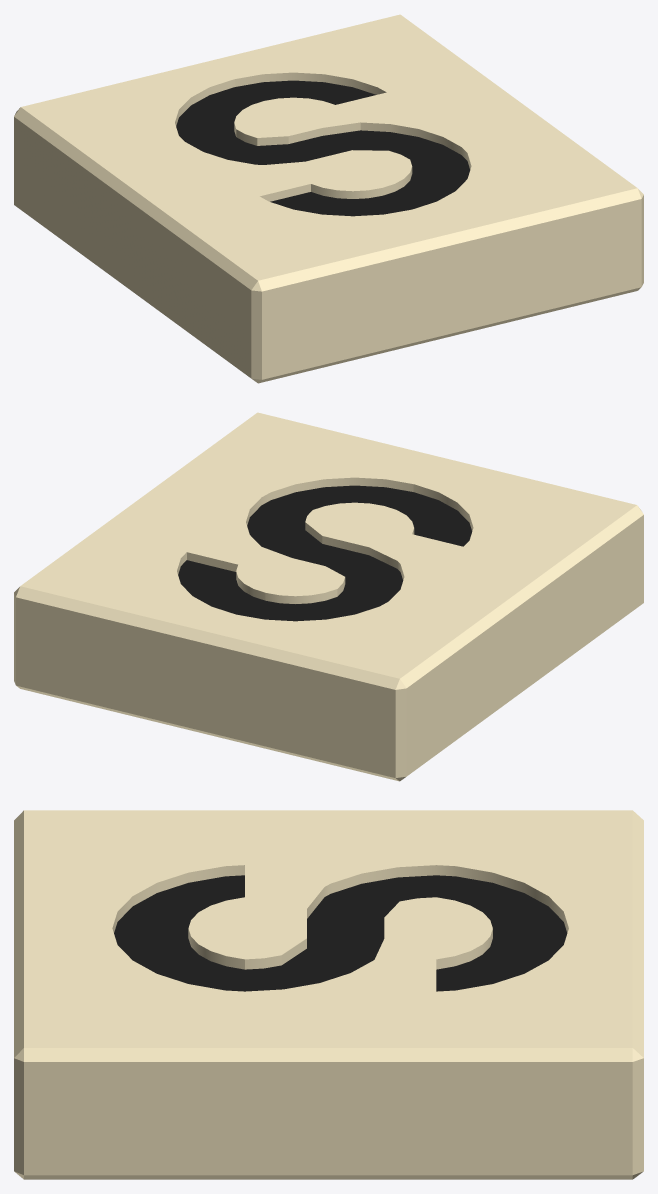
Rendered from Game_Anagram_Tile_S_01.fbx.
3 views of the same model, one above another, from view 1: azimuth 30°, elevation 25°; view 2: azimuth 150°, elevation 25°; view 3: azimuth 270°, elevation 25° (orthographic). The views are drawn at different scales.
Visible parts, largest first — view 1: Game_Anagram_Tile_S_01; view 2: Game_Anagram_Tile_S_01; view 3: Game_Anagram_Tile_S_01.
Boxes of the visible parts, bbox=[...] form: Game_Anagram_Tile_S_01: bbox=[14, 14, 643, 383]; Game_Anagram_Tile_S_01: bbox=[14, 412, 643, 781]; Game_Anagram_Tile_S_01: bbox=[14, 810, 643, 1179].
Bounding box in the file's own units: 16.4 × 4.1 × 17.77.
